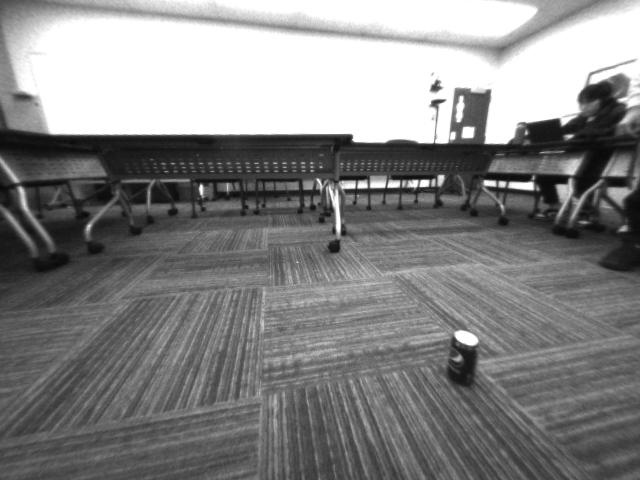can: (444, 325, 481, 387)
